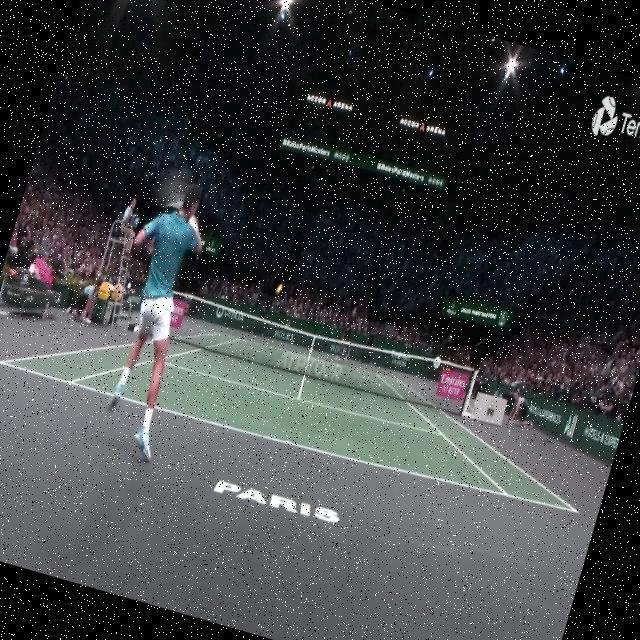court: (0, 270, 601, 530)
net: (145, 278, 479, 424)
player: (74, 170, 228, 464)
